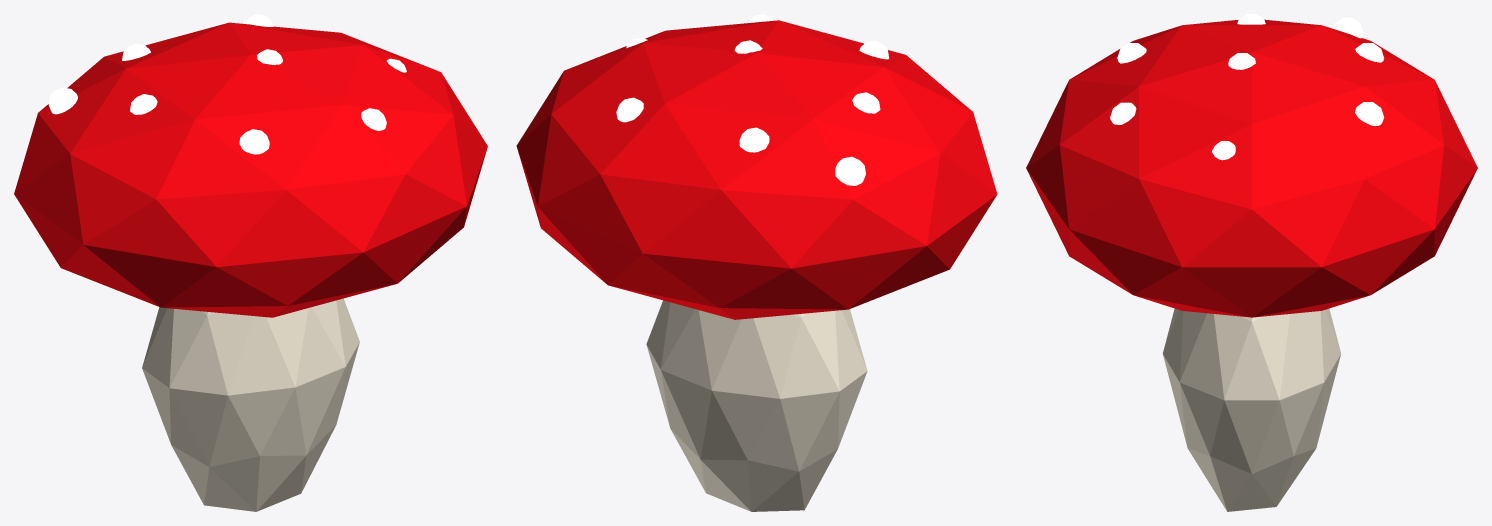
File: mushroom.glb
The picture shows the model from 3 angles, left to right: view 1: azimuth 30°, elevation 25°; view 2: azimuth 150°, elevation 25°; view 3: azimuth 270°, elevation 25°; orthographic projection.
Parts seen in each view (by area): view 1: Icosphere.001, Icosphere, circles; view 2: Icosphere.001, Icosphere, circles; view 3: Icosphere.001, Icosphere, circles.
Boxes of the visible parts, box(x1,y1,x2,y2) form: Icosphere.001: box(14, 22, 487, 317); Icosphere: box(142, 298, 359, 511); circles: box(48, 14, 406, 154); Icosphere.001: box(516, 20, 997, 319); Icosphere: box(646, 300, 867, 511); circles: box(616, 14, 888, 185); Icosphere.001: box(1026, 19, 1477, 317); Icosphere: box(1162, 308, 1341, 511); circles: box(1110, 14, 1384, 160).
Size of the model in its own units: 207 by 219 by 199.
